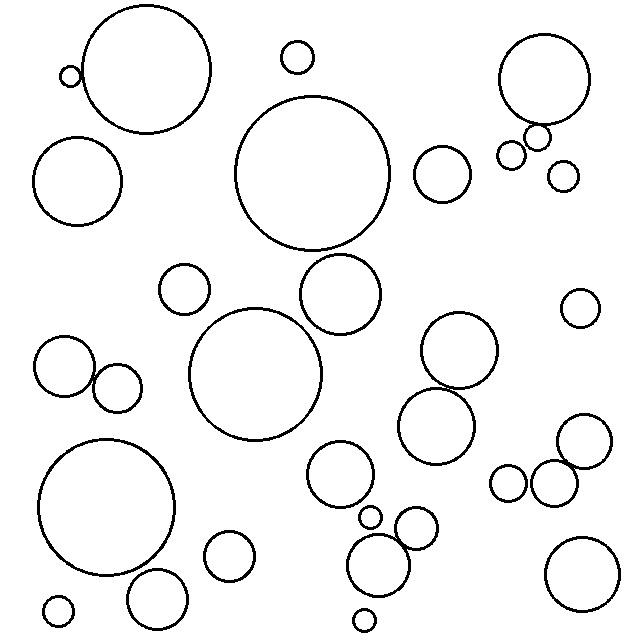circle: (230, 90, 393, 254), (35, 434, 180, 581), (185, 302, 326, 445), (78, 3, 214, 137), (497, 29, 594, 128), (30, 134, 125, 230), (296, 250, 384, 337), (418, 307, 502, 392), (394, 385, 479, 468), (541, 533, 625, 614), (304, 436, 379, 512), (344, 532, 413, 600), (123, 565, 192, 633), (30, 332, 98, 400), (411, 140, 476, 206), (553, 412, 616, 471), (198, 526, 260, 585), (155, 259, 215, 318), (90, 361, 146, 417), (529, 457, 580, 510), (392, 503, 443, 552), (559, 286, 604, 331), (487, 461, 532, 506), (277, 36, 319, 77), (39, 592, 78, 629), (545, 158, 583, 194), (494, 137, 529, 173), (521, 122, 555, 152), (350, 604, 380, 635), (358, 500, 384, 533), (56, 62, 85, 89)
